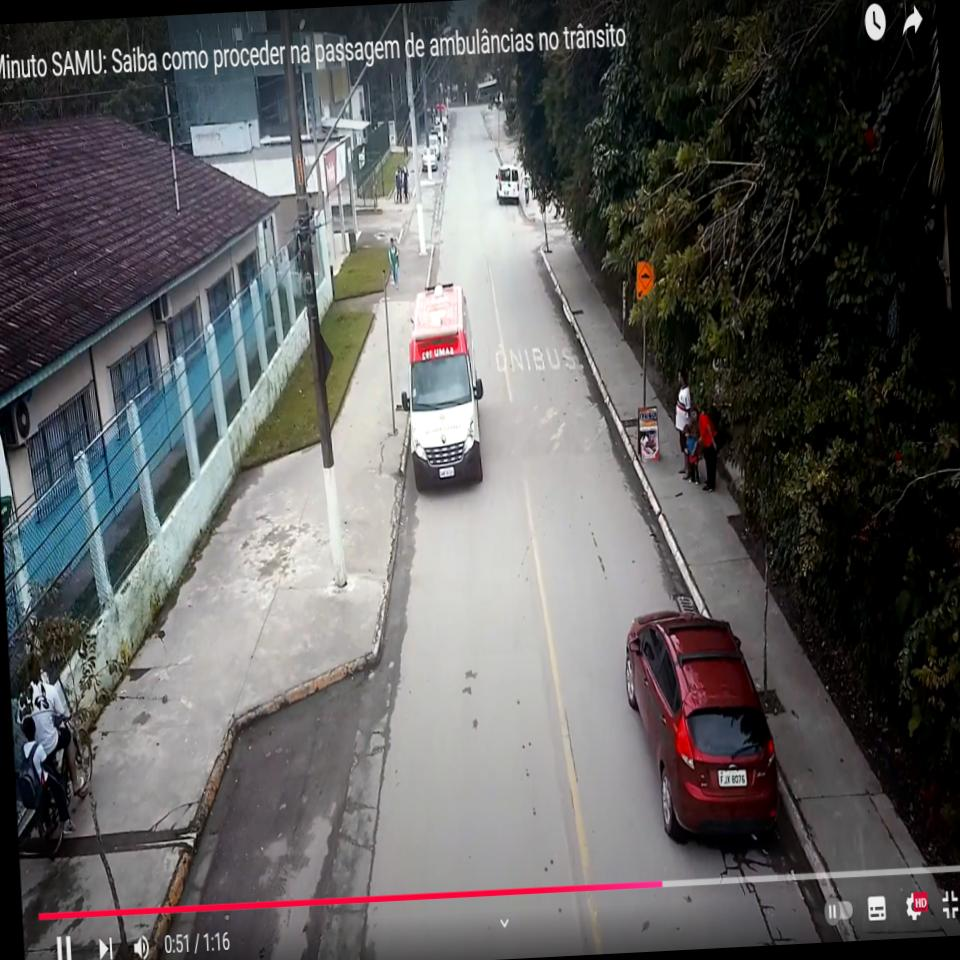bombeiro: (395, 277, 491, 492)
